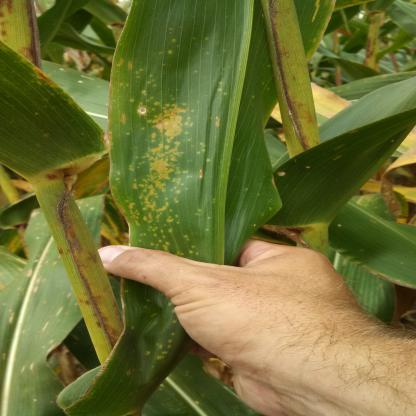Corn rust leaf: (107, 0, 320, 246)
